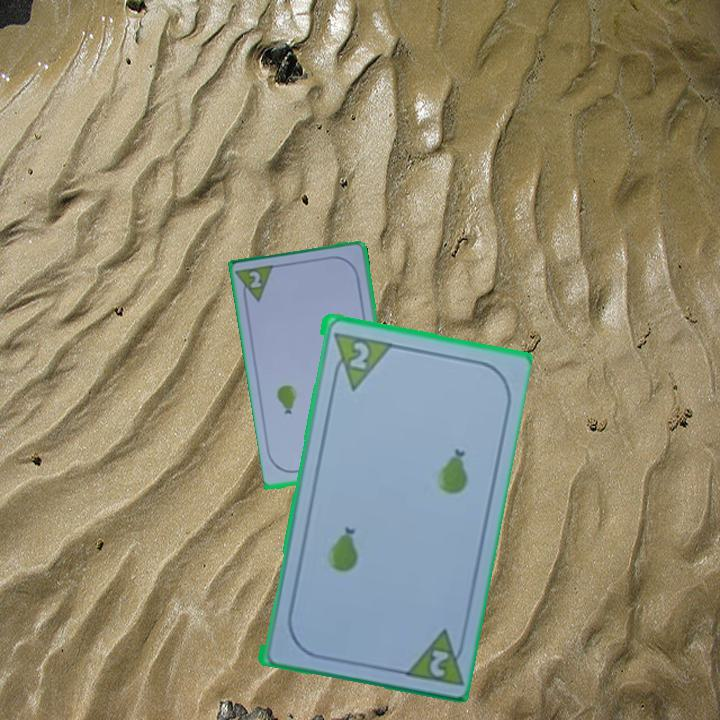2p: (234, 261, 278, 308), (345, 337, 372, 372), (425, 645, 451, 680)
